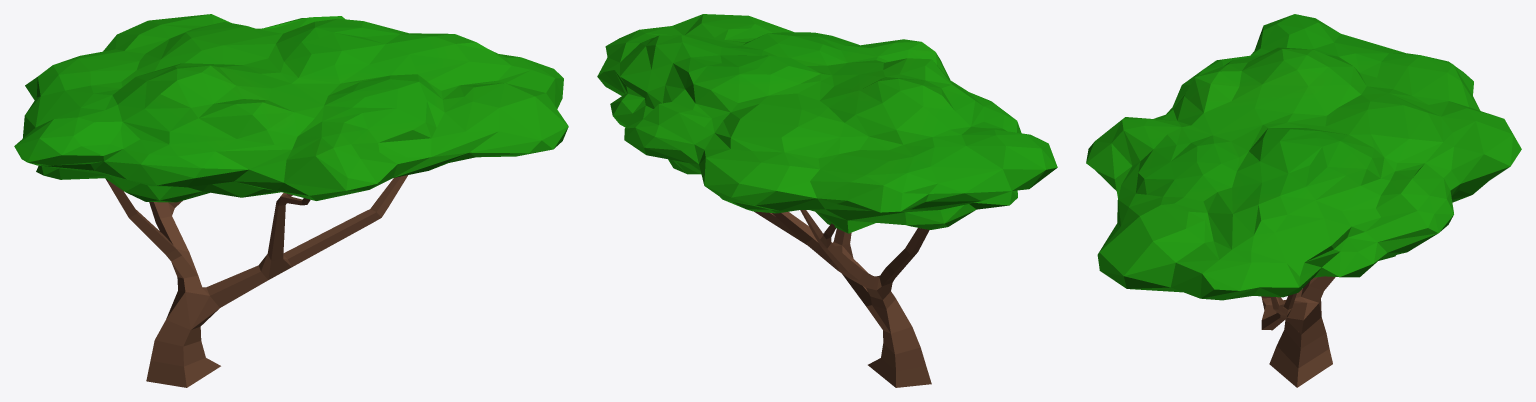
Rendered from trees A_03.fbx.
3 renders of one model, left to right at view 1: azimuth 30°, elevation 25°; view 2: azimuth 150°, elevation 25°; view 3: azimuth 270°, elevation 25°, orthographic. The views are drawn at different scales.
Visible parts, largest first — view 1: Tree.A_03; view 2: Tree.A_03; view 3: Tree.A_03.
Boxes of the visible parts, left/top/right/bottom form: Tree.A_03: left=14, top=14, right=568, bottom=387; Tree.A_03: left=597, top=14, right=1057, bottom=387; Tree.A_03: left=1086, top=14, right=1521, bottom=387.
Size of the model in its own units: 1572 by 911 by 1143.
